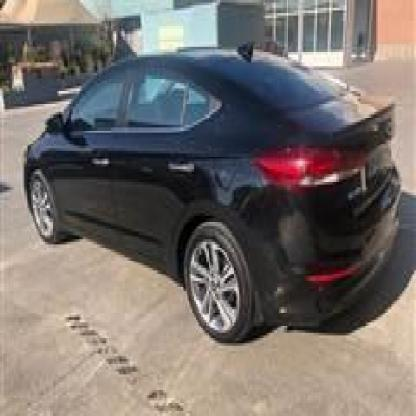Car: (16, 46, 406, 354)
